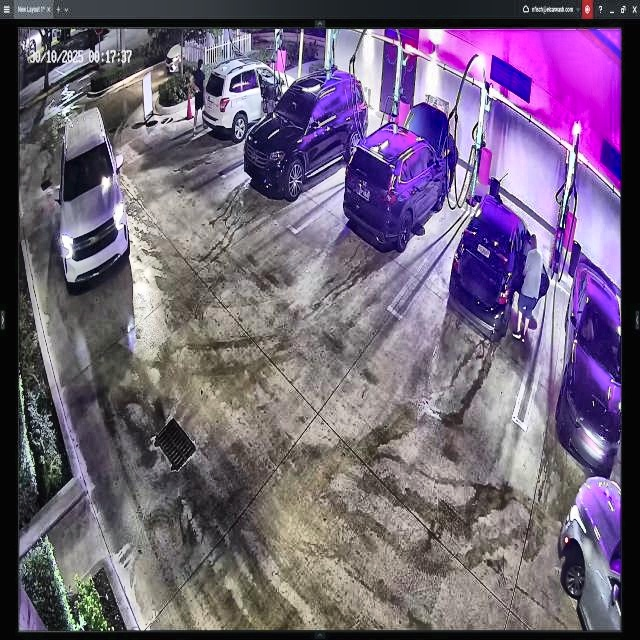Car: (348, 98, 450, 250), (248, 70, 366, 198), (452, 196, 546, 352)
